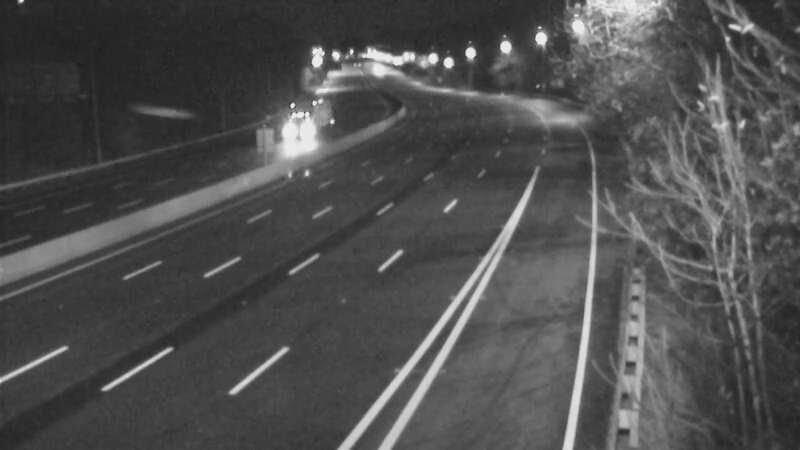vehicle: (290, 94, 340, 144)
